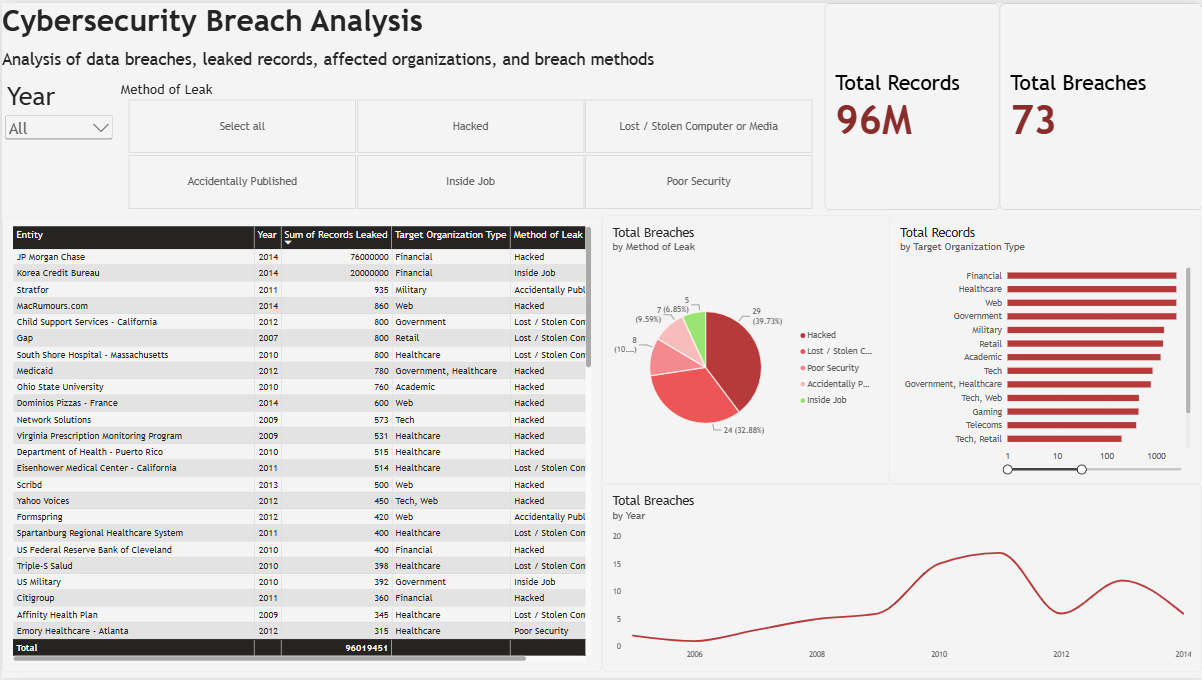

Layout of this report page (visuals, bound fields, positions):
{"tool":"powerbi","page":{"name":"Page 1","canvas":[1920,1080],"ordinal":0},"visuals":[{"type":"cardVisual","fields":{"Data":["Data Breaches.Total Records"]},"box":[1315,0,280,331.7],"z":0},{"type":"cardVisual","fields":{"Data":["Data Breaches.Total Breaches"]},"box":[1595,0,325,331.7],"z":1000},{"type":"lineChart","fields":{"Category":["Year.Year"],"Y":["Data Breaches.Total Breaches"]},"box":[960,770,960,300],"z":2000},{"type":"barChart","fields":{"Category":["Organization.Target Organization Type"],"Y":["Data Breaches.Total Records"]},"box":[1420.8,340.9,499.2,429],"z":3000},{"type":"pieChart","fields":{"Category":["Method.Method of Leak"],"Y":["Data Breaches.Total Breaches"]},"box":[960.8,340.9,460,429],"z":4000},{"type":"tableEx","fields":{"Values":["Data Breaches.Entity","Year.Year","Sum(Data Breaches.Records Leaked)","Organization.Target Organization Type","Method.Method of Leak"]},"box":[0,341.7,960,728.3],"z":5000},{"type":"textbox","box":[0,0,1315,73.3],"z":6000},{"type":"slicer","fields":{"Values":["Year.Year"]},"box":[0,126.7,181.7,205],"z":7000},{"type":"slicer","fields":{"Values":["Method.Method of Leak"]},"box":[181.7,126.7,1133.3,205],"z":8000},{"type":"textbox","box":[0,73.3,1315,53.3],"z":8001}]}

Visuals, with their boxes in screenshot pixels (x1, y1, x2, y2), scaled from the page's 1920x1080 canvas onto the 1202x680 screenshot:
cardVisual - Data Breaches.Total Records: x1=823, y1=0, x2=999, y2=209
cardVisual - Data Breaches.Total Breaches: x1=999, y1=0, x2=1201, y2=209
lineChart - Year.Year x Data Breaches.Total Breaches: x1=601, y1=485, x2=1201, y2=674
barChart - Organization.Target Organization Type x Data Breaches.Total Records: x1=889, y1=215, x2=1201, y2=485
pieChart - Method.Method of Leak x Data Breaches.Total Breaches: x1=602, y1=215, x2=889, y2=485
tableEx - Data Breaches.Entity x Year.Year: x1=0, y1=215, x2=601, y2=674
textbox: x1=0, y1=0, x2=823, y2=46
slicer - Year.Year: x1=0, y1=80, x2=114, y2=209
slicer - Method.Method of Leak: x1=114, y1=80, x2=823, y2=209
textbox: x1=0, y1=46, x2=823, y2=80
